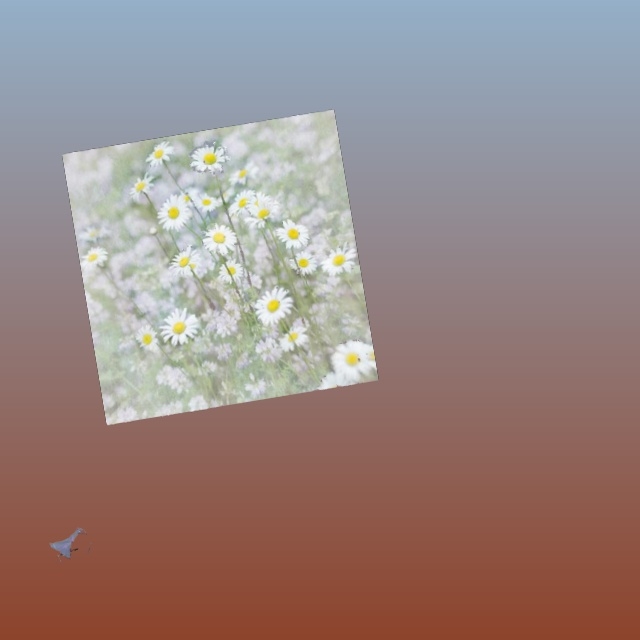butterfly flower: (50, 528, 88, 561)
daisy: (62, 109, 378, 424)
